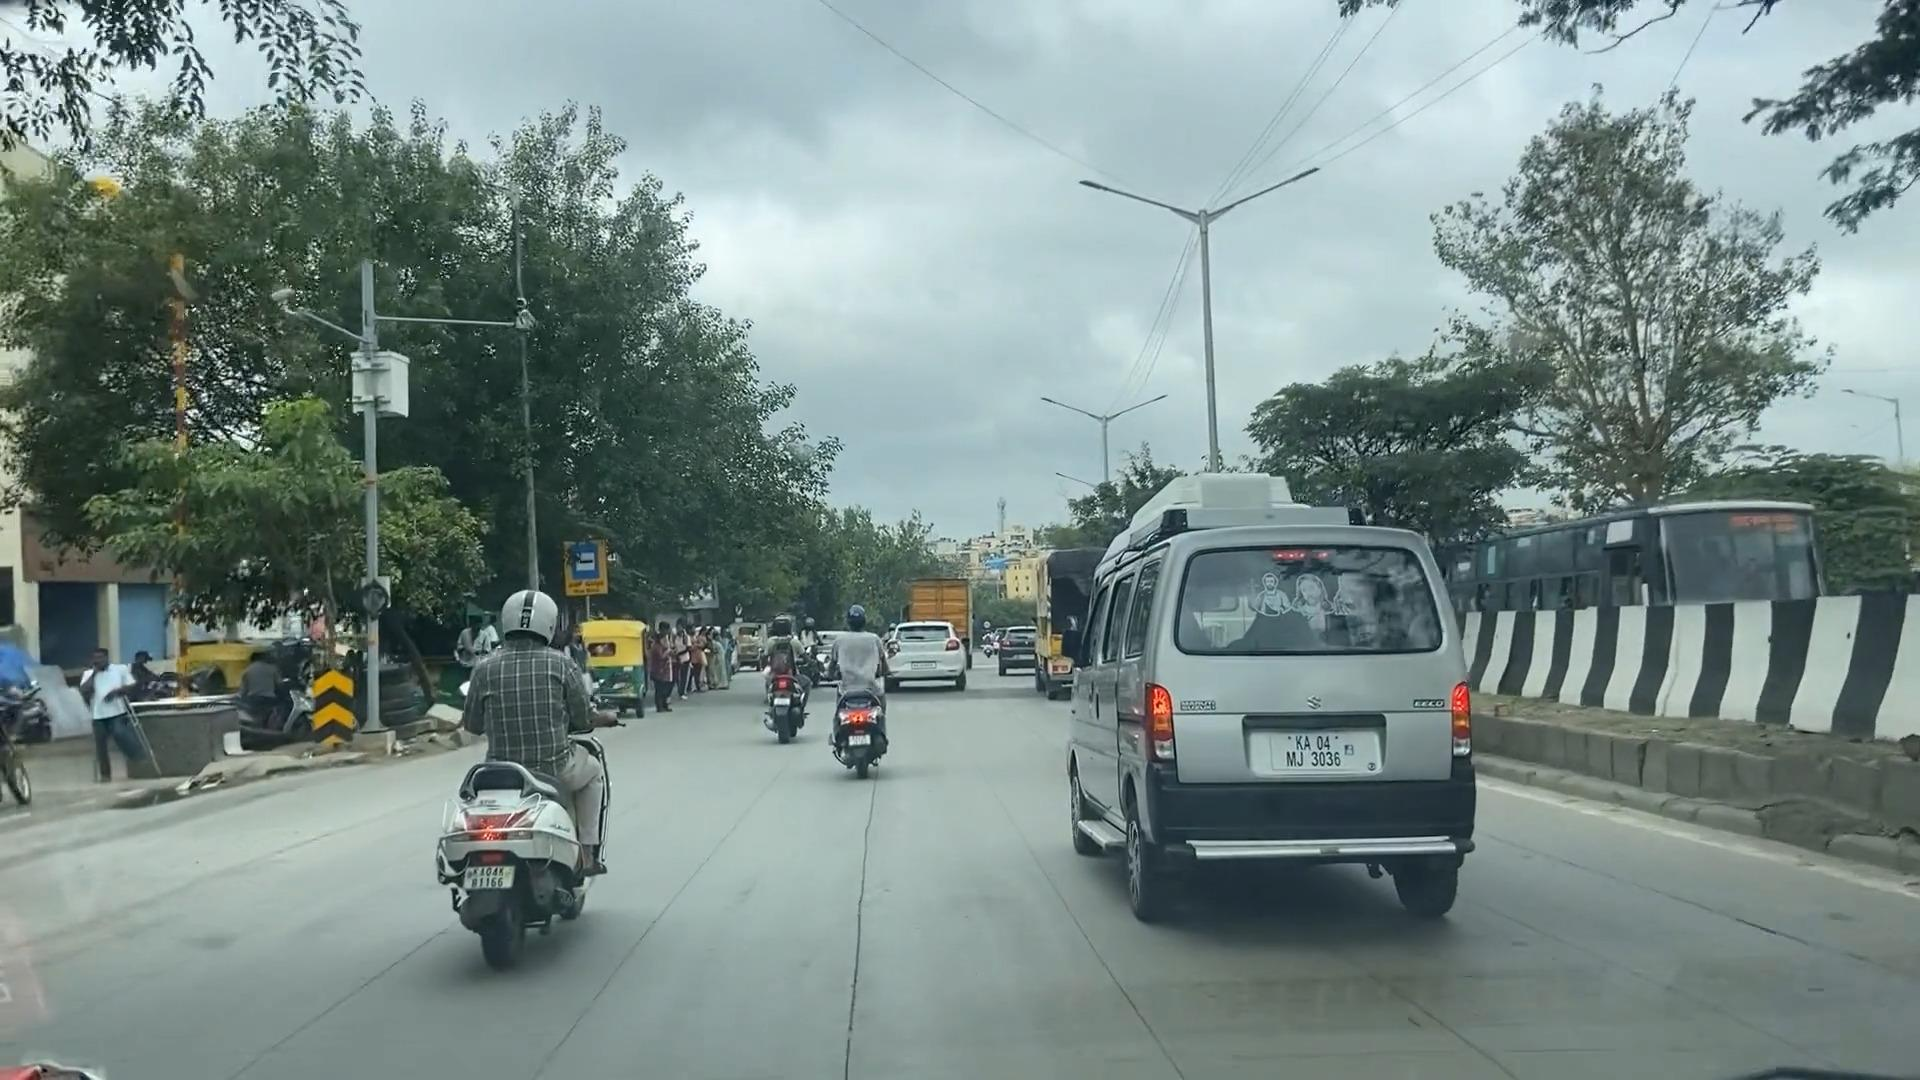LMV: (1098, 527, 1507, 943), (440, 596, 612, 980)
